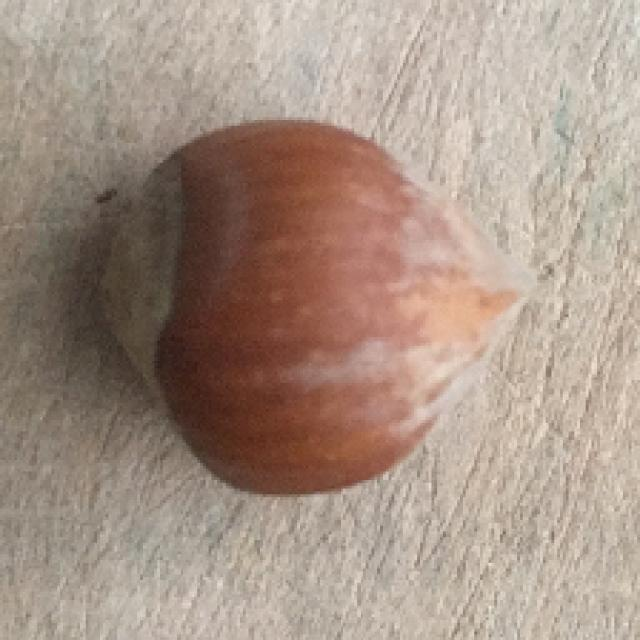QualityHazelnut: (99, 114, 537, 498)
